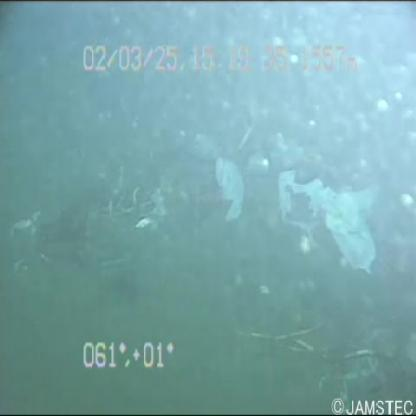Rác: (270, 150, 386, 279), (200, 144, 254, 232)
